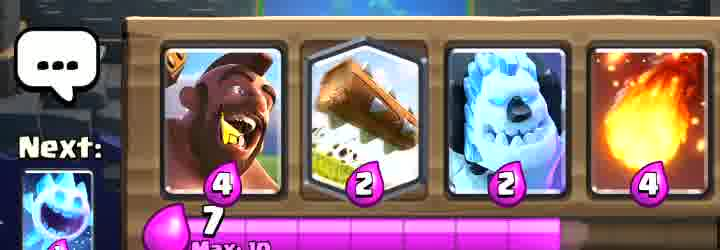fireball: (596, 46, 710, 193)
ice-golem: (446, 53, 560, 198)
ice-spirit: (25, 171, 93, 250)
log: (311, 43, 423, 190)
